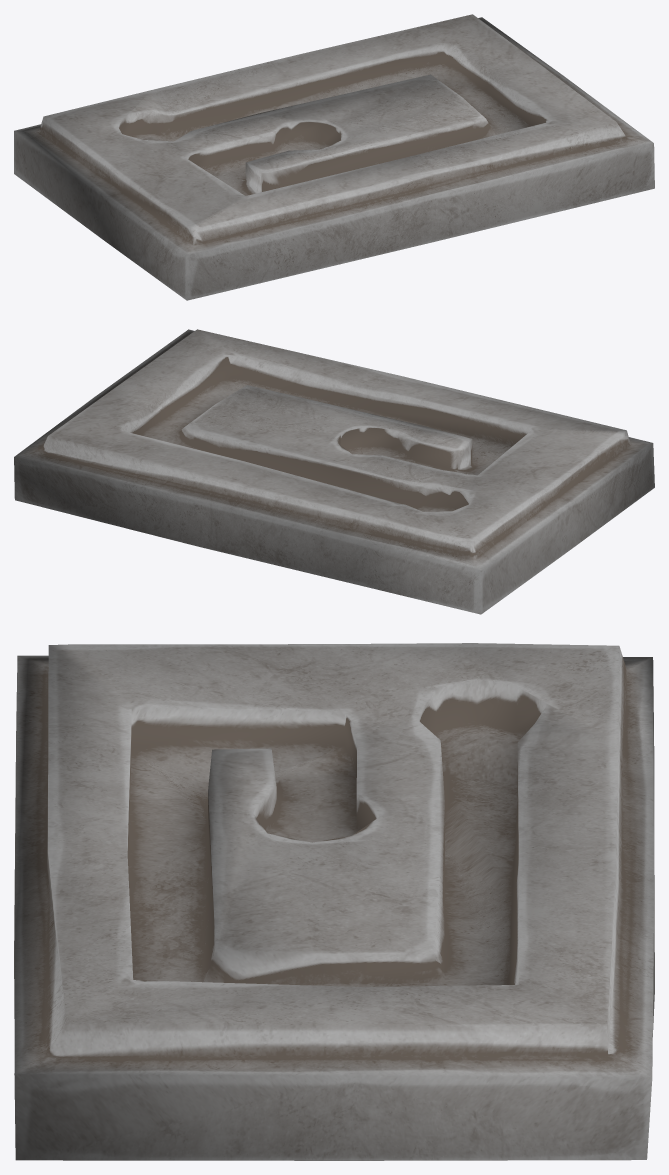
File: stonepuzzleB.fbx
3 renders of one model, top to bottom at view 1: azimuth 30°, elevation 25°; view 2: azimuth 150°, elevation 25°; view 3: azimuth 270°, elevation 25°, orthographic. The views are drawn at different scales.
Parts seen in each view (by area): view 1: Puzzle_stoneB; view 2: Puzzle_stoneB; view 3: Puzzle_stoneB.
Boxes of the visible parts, x1,y1,x2,y2 form: Puzzle_stoneB: [14, 14, 654, 300]; Puzzle_stoneB: [14, 329, 654, 614]; Puzzle_stoneB: [14, 643, 654, 1160].
Bounding box in the file's own units: 55.47 × 7.03 × 35.63.
Materials: 1 (1 with a texture image).
